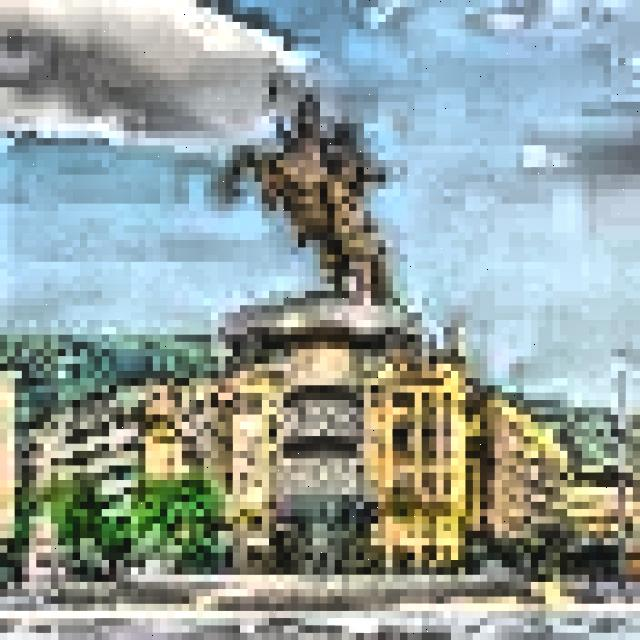alexander the great monument: (212, 74, 432, 578)
